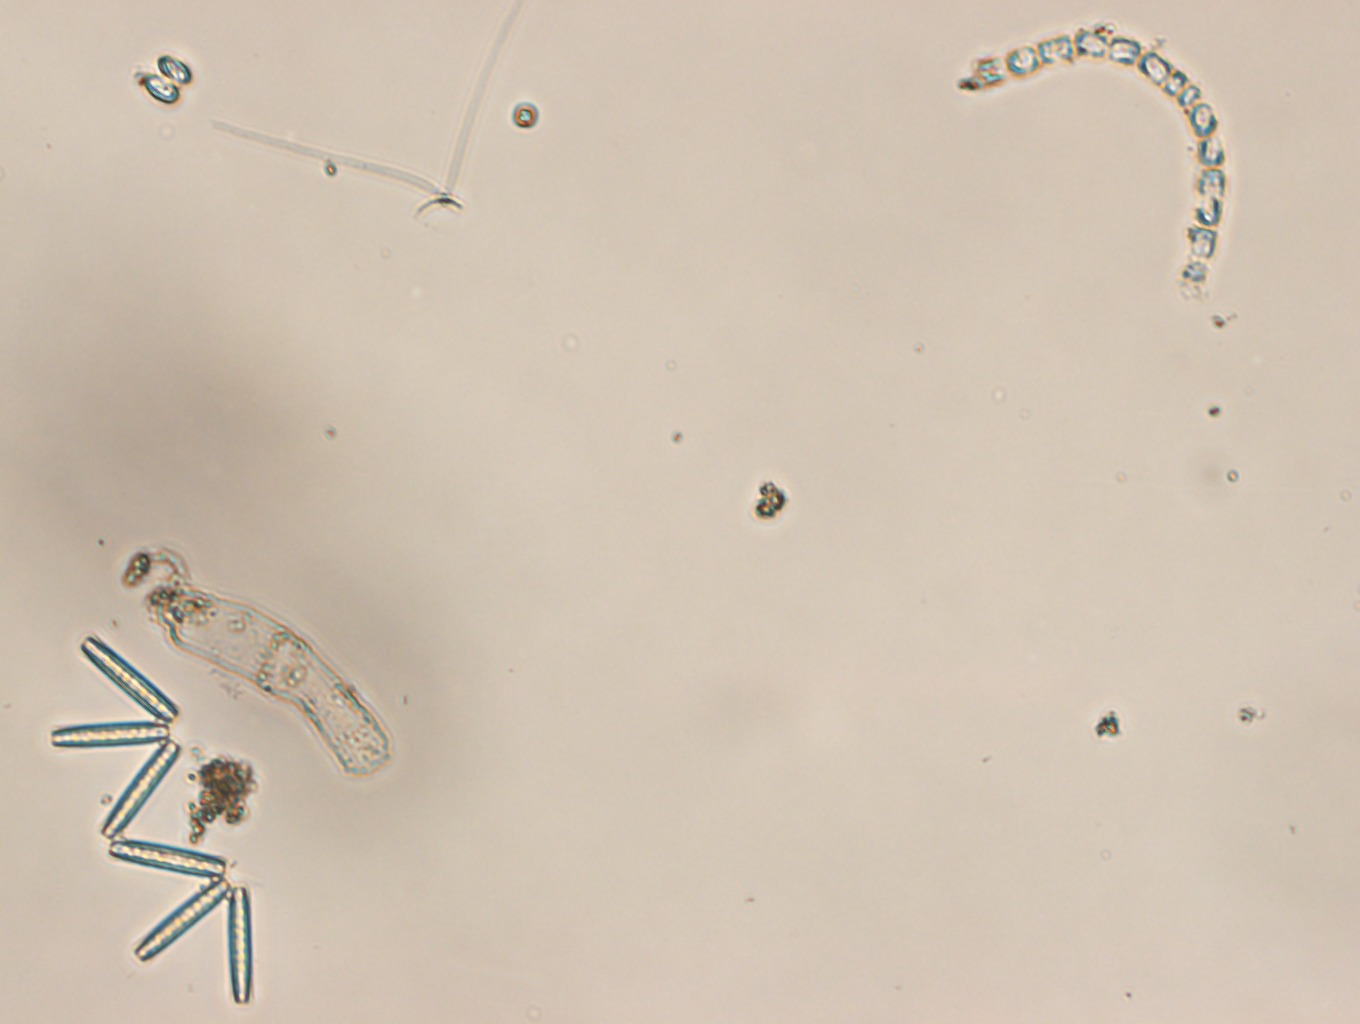skeletonema: (974, 28, 1228, 299)
thalassionema nitzschioides: (48, 635, 255, 1002)
